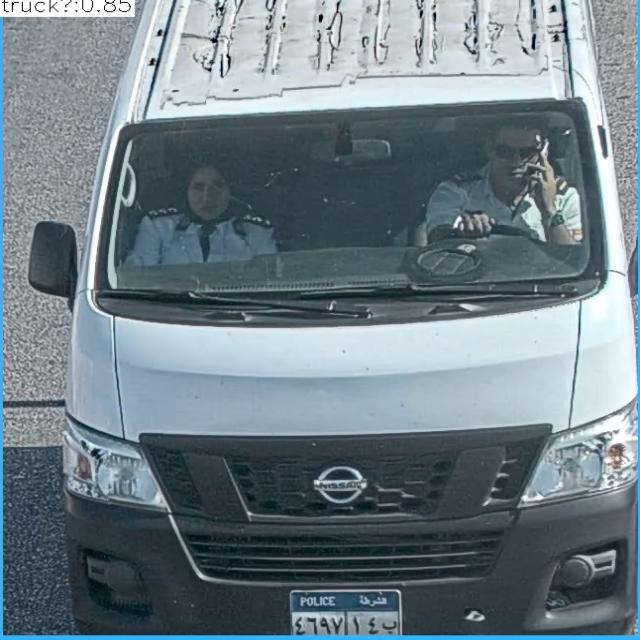windshield: (87, 107, 600, 320)
